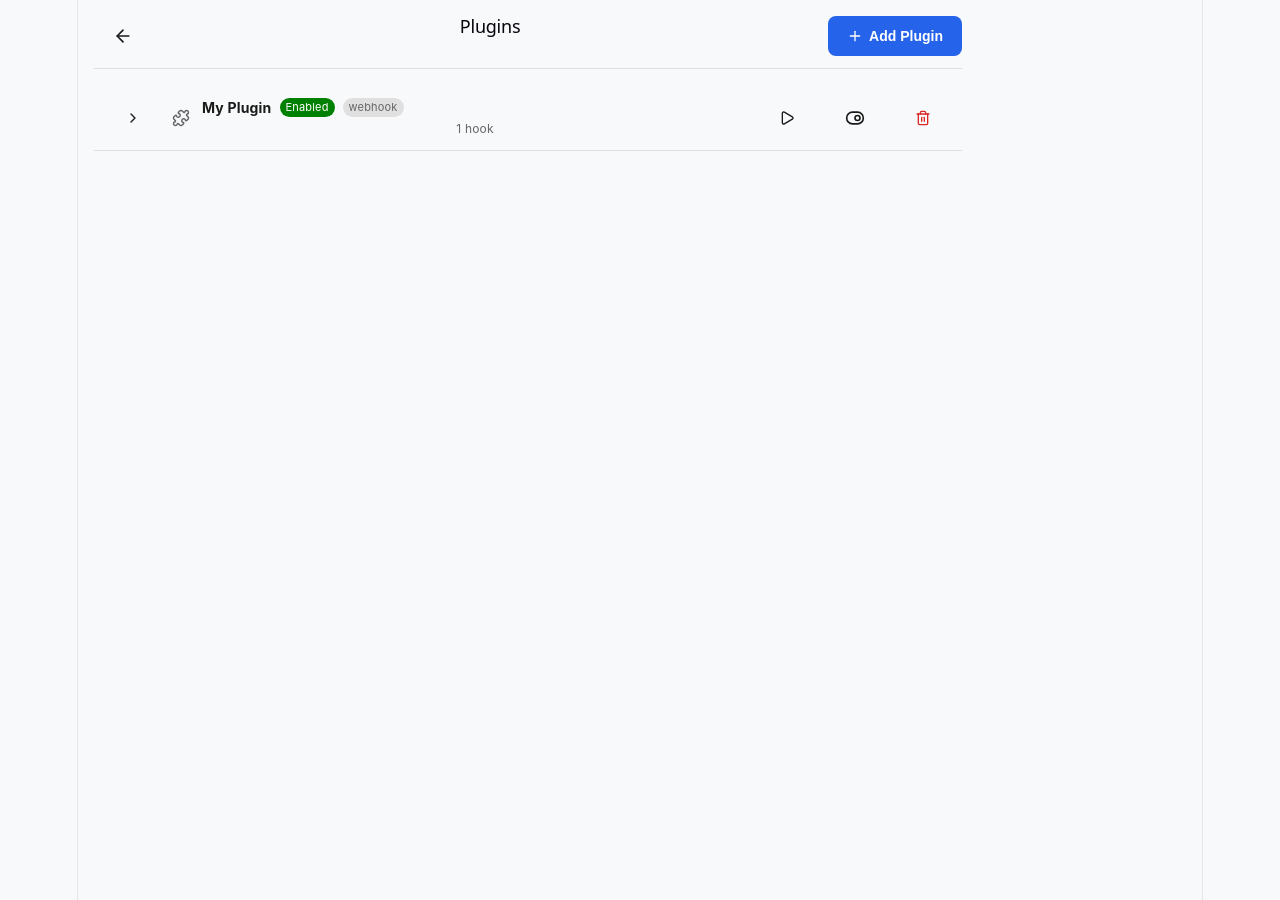
Test: PluginManager › shows execution log when plugin is expanded
This screenshot has width=1280, height=900.
Expected: the text "My Plugin" is shown, [202,97,272,118]
# NOTE: Click the expand button
Step 1. Click the button titled "Toggle executions" → (133, 118), box [106,100,160,136]
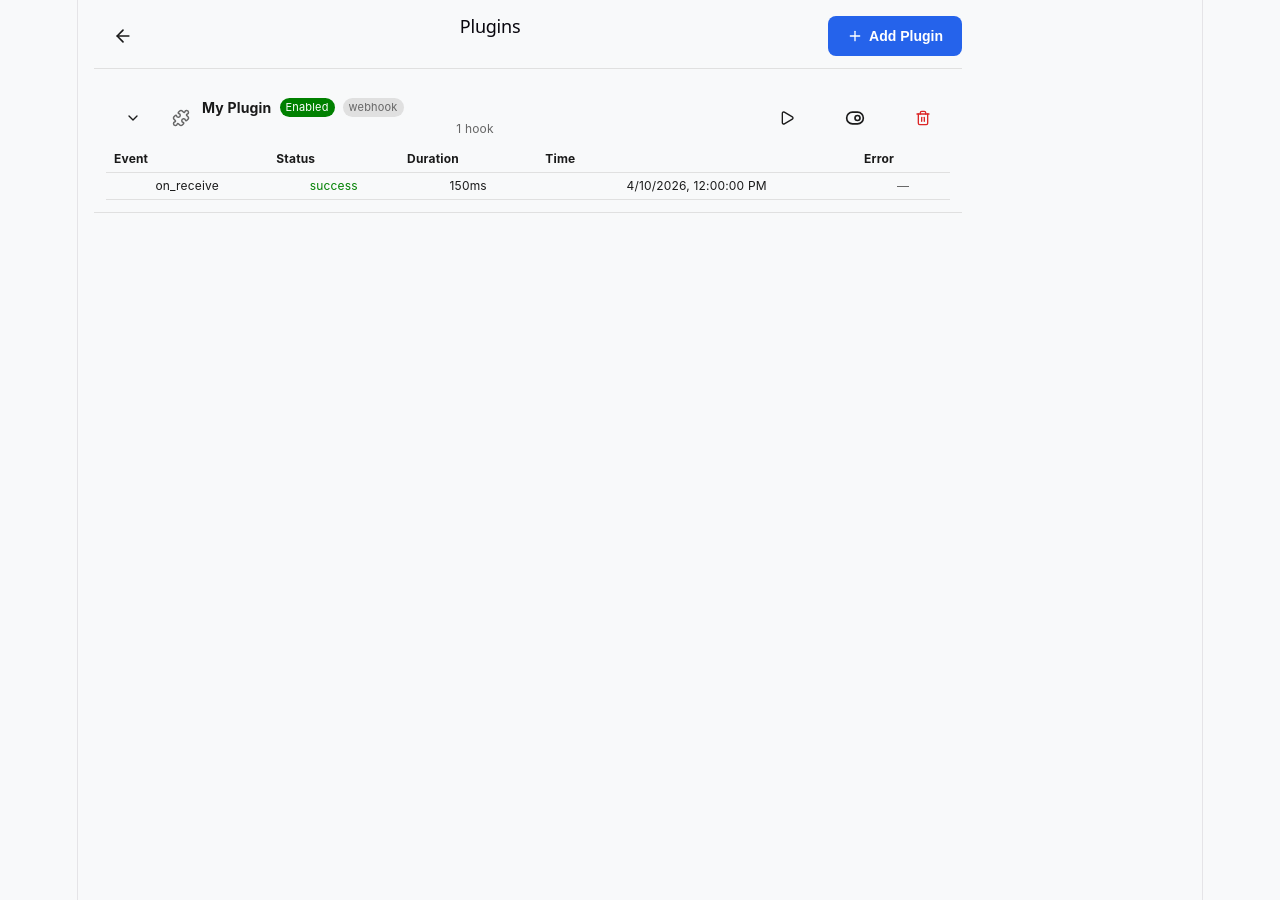
Expected: the element with test id "execution-log" is shown, [106,146,950,200]
